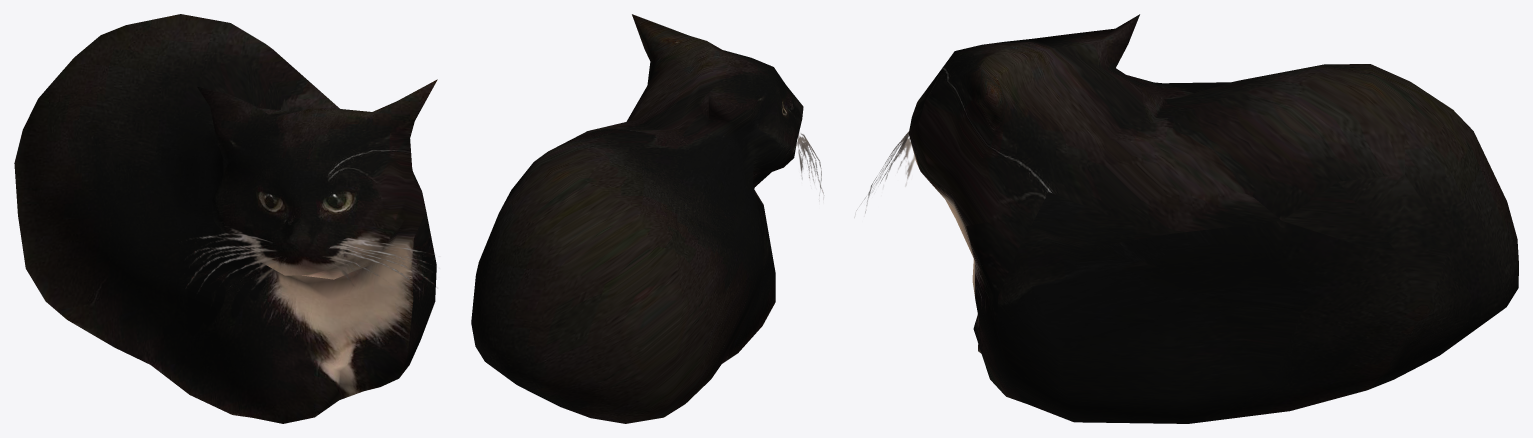
Rendered from Maxwell.gltf.
3 views of the same model, side by side, from view 1: azimuth 30°, elevation 25°; view 2: azimuth 150°, elevation 25°; view 3: azimuth 270°, elevation 25° (orthographic). The views are drawn at different scales.
Visible parts, largest first — view 1: Maxwell, whiskers; view 2: Maxwell, whiskers; view 3: Maxwell, whiskers.
Boxes of the visible parts, x1=… form: Maxwell: x1=14, y1=14, x2=437, y2=423; whiskers: x1=186, y1=229, x2=436, y2=291; Maxwell: x1=471, y1=14, x2=803, y2=423; whiskers: x1=796, y1=132, x2=823, y2=198; Maxwell: x1=908, y1=14, x2=1518, y2=423; whiskers: x1=856, y1=131, x2=914, y2=212.
Bounding box in the file's own units: 2.06 × 2.45 × 4.23.
